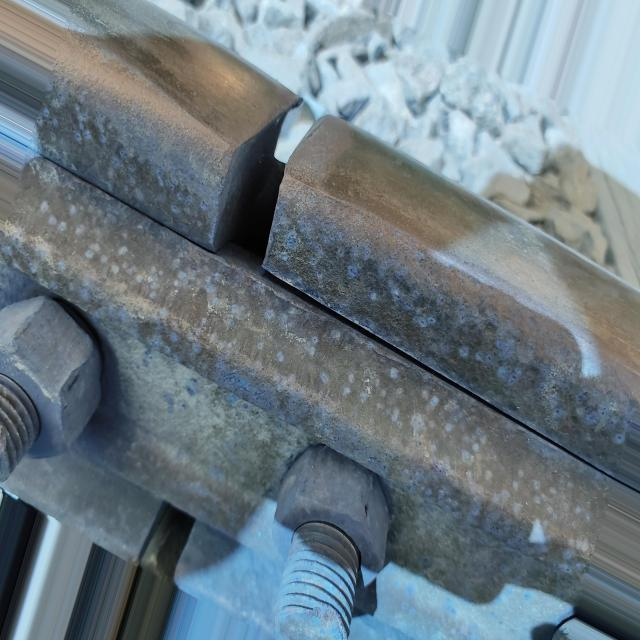Good Joint: (0, 44, 627, 640)
